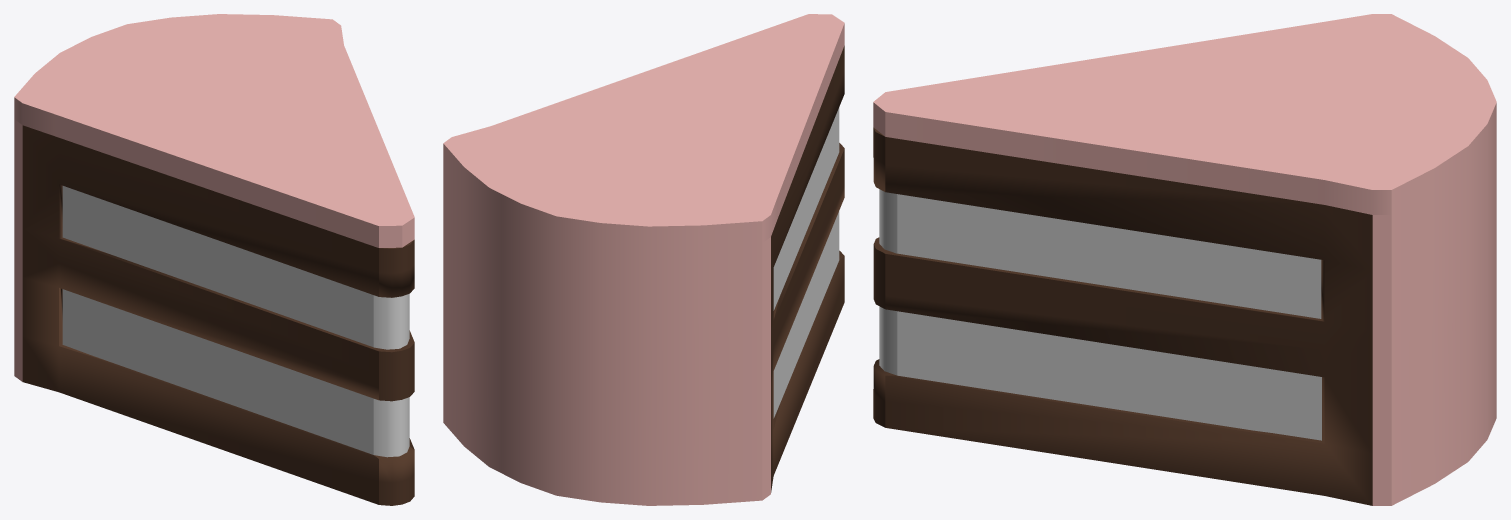
The model's file is slicecake.glb.
The picture shows the model from 3 angles, left to right: view 1: azimuth 30°, elevation 25°; view 2: azimuth 150°, elevation 25°; view 3: azimuth 270°, elevation 25°; orthographic projection. The views are drawn at different scales.
Visible parts, largest first — view 1: Cube, Cube.003, Cube.001, Cube.002; view 2: Cube.003, Cube, Cube.001, Cube.002; view 3: Cube.003, Cube, Cube.001, Cube.002.
Part boxes in pixels (left/top/right/bottom): Cube: left=22, top=125, right=414, bottom=505; Cube.003: left=14, top=14, right=414, bottom=381; Cube.001: left=62, top=289, right=409, bottom=457; Cube.002: left=62, top=186, right=409, bottom=349; Cube.003: left=443, top=14, right=844, bottom=505; Cube: left=771, top=45, right=844, bottom=492; Cube.001: left=773, top=211, right=839, bottom=418; Cube.002: left=773, top=107, right=839, bottom=310; Cube.003: left=873, top=14, right=1496, bottom=505; Cube: left=873, top=127, right=1372, bottom=505; Cube.001: left=879, top=306, right=1321, bottom=440; Cube.002: left=879, top=189, right=1321, bottom=318.
Bounding box in the file's own units: 0.8313 × 0.6954 × 1.24.
